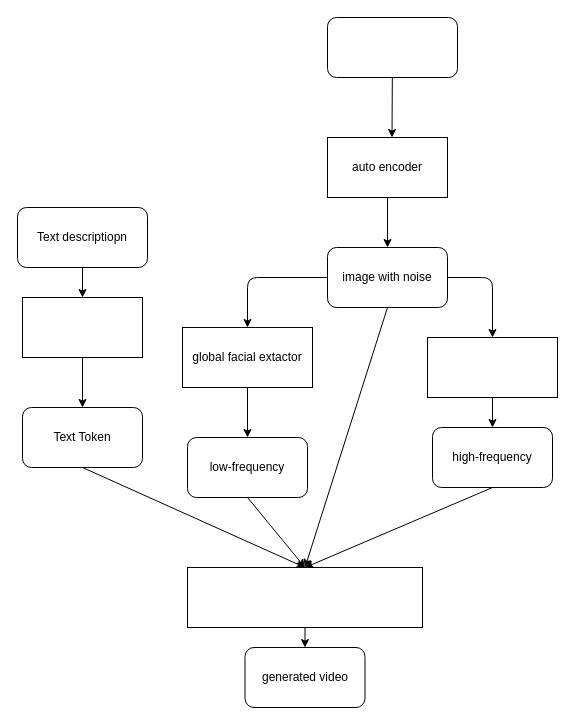
This 575x725 diagram has some shape labels left out. Here are the shapes that lost their labels. From the top down, the box of each, then its label:
(326, 16, 458, 78): reference image
(22, 296, 142, 358): Text encoder
(426, 336, 558, 398): local facial extactor
(186, 566, 422, 628): Transformer training (decoder with Consistent Strategy)
